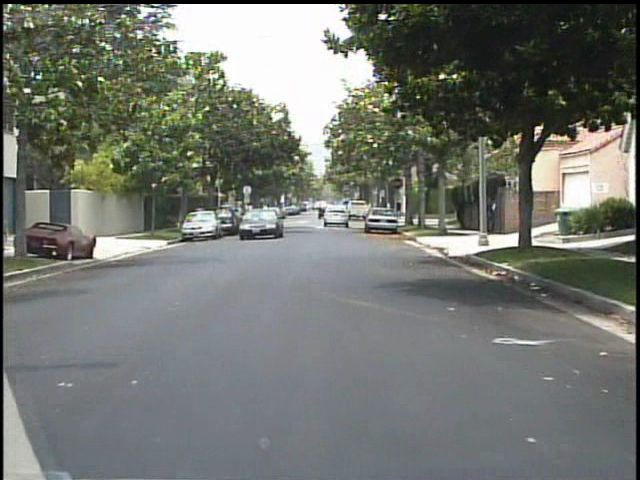person: (487, 192, 502, 237), (192, 201, 208, 232)
